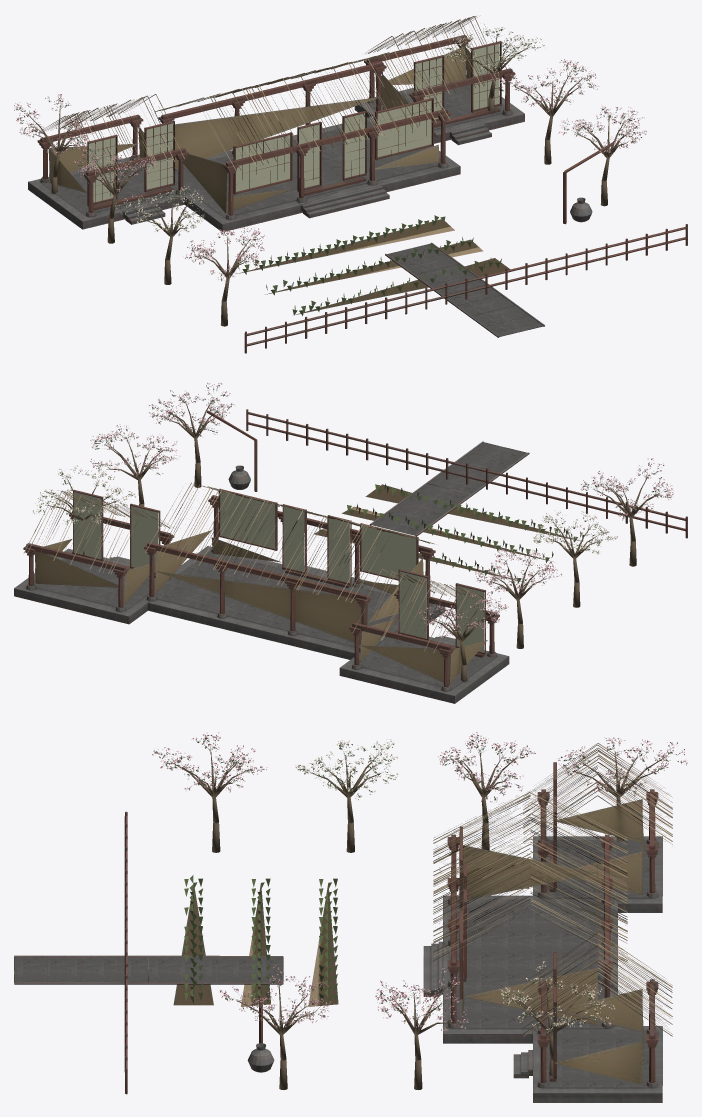
File: reference-public_models_places-low_daoxiangcun.glb
3 renders of one model, top to bottom at view 1: azimuth 30°, elevation 25°; view 2: azimuth 150°, elevation 25°; view 3: azimuth 270°, elevation 25°, orthographic. The views are drawn at different scales.
Parts seen in each view (by area): view 1: Mobile_daoxiangcun, Mobile_daoxiangcun_plants, Mobile_daoxiangcun_paving, daoxiangcun_screen.002; view 2: Mobile_daoxiangcun, Mobile_daoxiangcun_paving, daoxiangcun_screen.002, Mobile_daoxiangcun_plants; view 3: Mobile_daoxiangcun, Mobile_daoxiangcun_paving, Mobile_daoxiangcun_plants.
Part boxes in pixels (box(x1,y1,x2,y2)): Mobile_daoxiangcun: box(28, 16, 687, 353); Mobile_daoxiangcun_plants: box(14, 27, 646, 326); Mobile_daoxiangcun_paving: box(42, 84, 542, 336); daoxiangcun_screen.002: box(88, 43, 499, 202); Mobile_daoxiangcun: box(14, 409, 687, 703); Mobile_daoxiangcun_paving: box(34, 442, 526, 688); daoxiangcun_screen.002: box(74, 492, 484, 652); Mobile_daoxiangcun_plants: box(33, 382, 673, 681); Mobile_daoxiangcun: box(14, 743, 672, 1102); Mobile_daoxiangcun_paving: box(14, 840, 649, 1087); Mobile_daoxiangcun_plants: box(152, 732, 687, 1089).
Size of the model in its own units: 30.44 by 6.07 by 30.02.
Materials: 4 (2 with a texture image).
